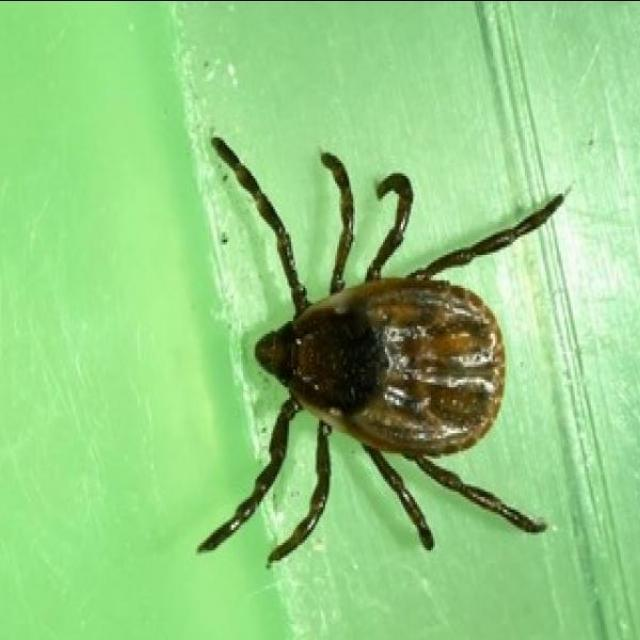Rhipicephalus Sanguineus-F: (195, 134, 567, 565)
